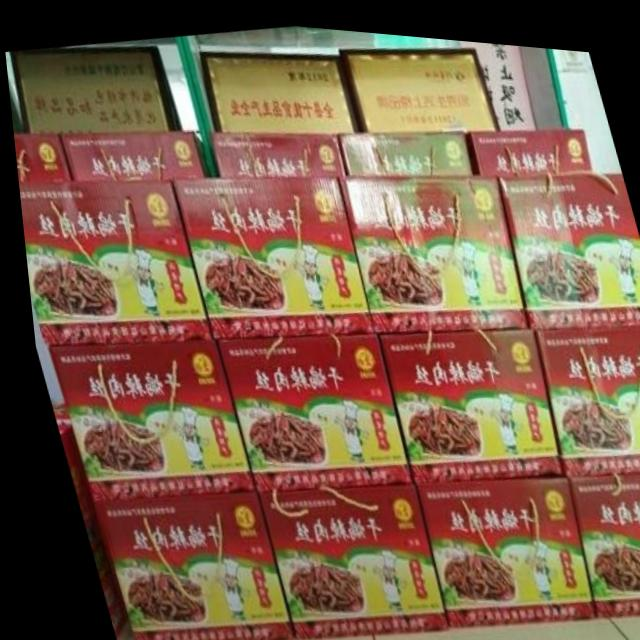box: (40, 332, 245, 499), (15, 175, 205, 344), (167, 173, 367, 332), (80, 484, 282, 640), (208, 325, 402, 486), (335, 164, 524, 328), (246, 472, 434, 633), (371, 321, 553, 473), (404, 466, 582, 617), (496, 161, 640, 319), (528, 315, 640, 466), (558, 460, 640, 606), (57, 127, 207, 177), (206, 126, 341, 174), (461, 118, 590, 166), (333, 124, 470, 166), (44, 403, 82, 537), (78, 516, 114, 639), (11, 131, 67, 185)
